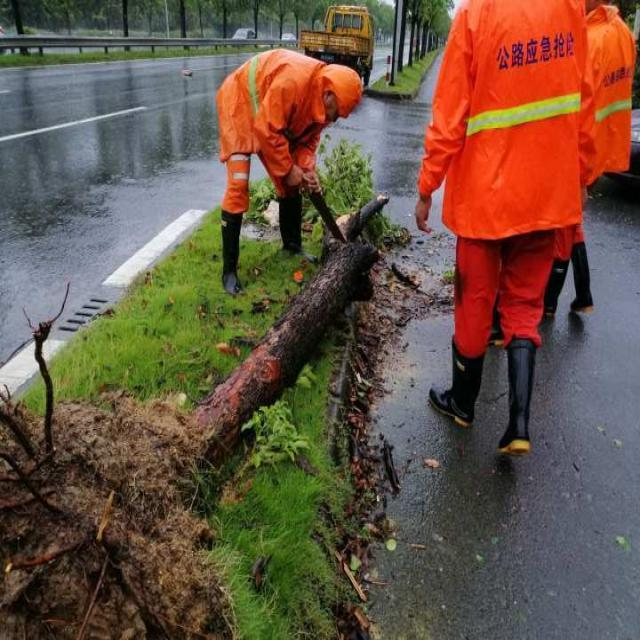fallen_object: (1, 138, 392, 640)
